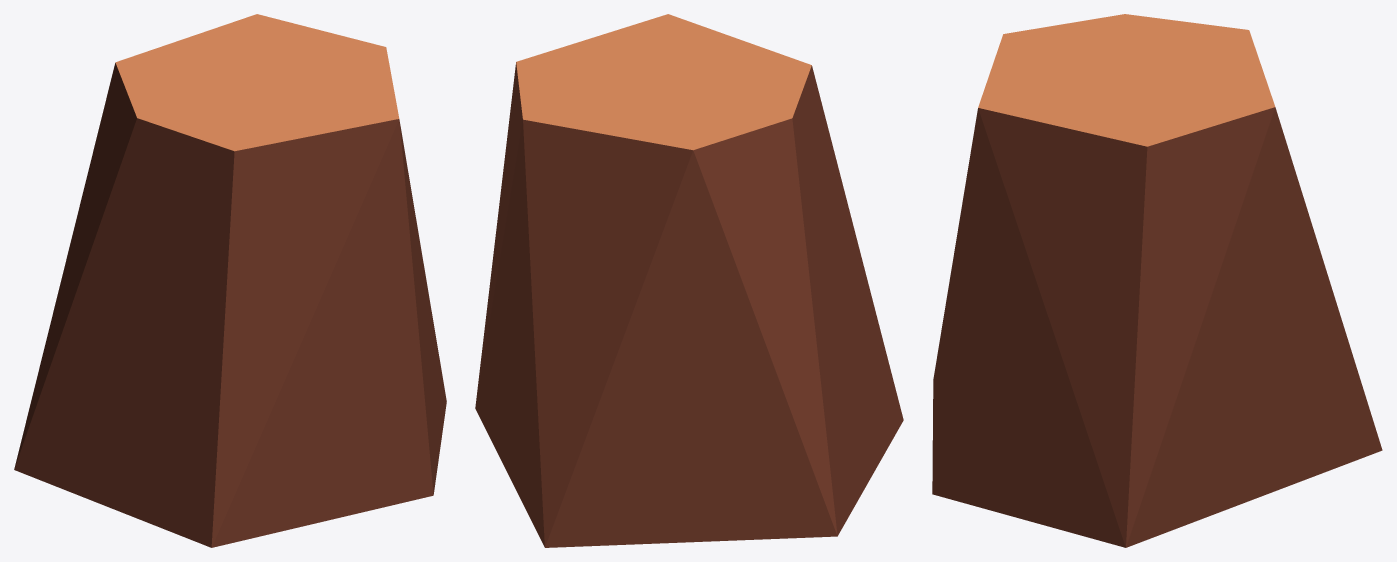
The model's file is pine_trunk_type_3_LOD3.fbx.
3 views of the same model, side by side, from view 1: azimuth 30°, elevation 25°; view 2: azimuth 150°, elevation 25°; view 3: azimuth 270°, elevation 25° (orthographic). The views are drawn at different scales.
Visible parts, largest first — view 1: pt_type_3; view 2: pt_type_3; view 3: pt_type_3.
Part boxes in pixels (box(x1,y1,x2,y2)): pt_type_3: box(14, 14, 446, 547); pt_type_3: box(475, 14, 903, 547); pt_type_3: box(932, 14, 1382, 547).
Size of the model in its own units: 208 by 185 by 197.
